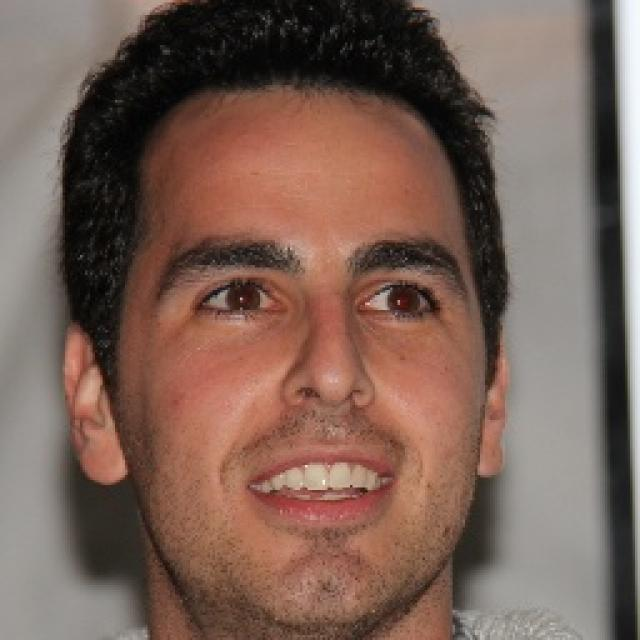earlobe: (64, 322, 133, 489), (479, 335, 510, 477)
